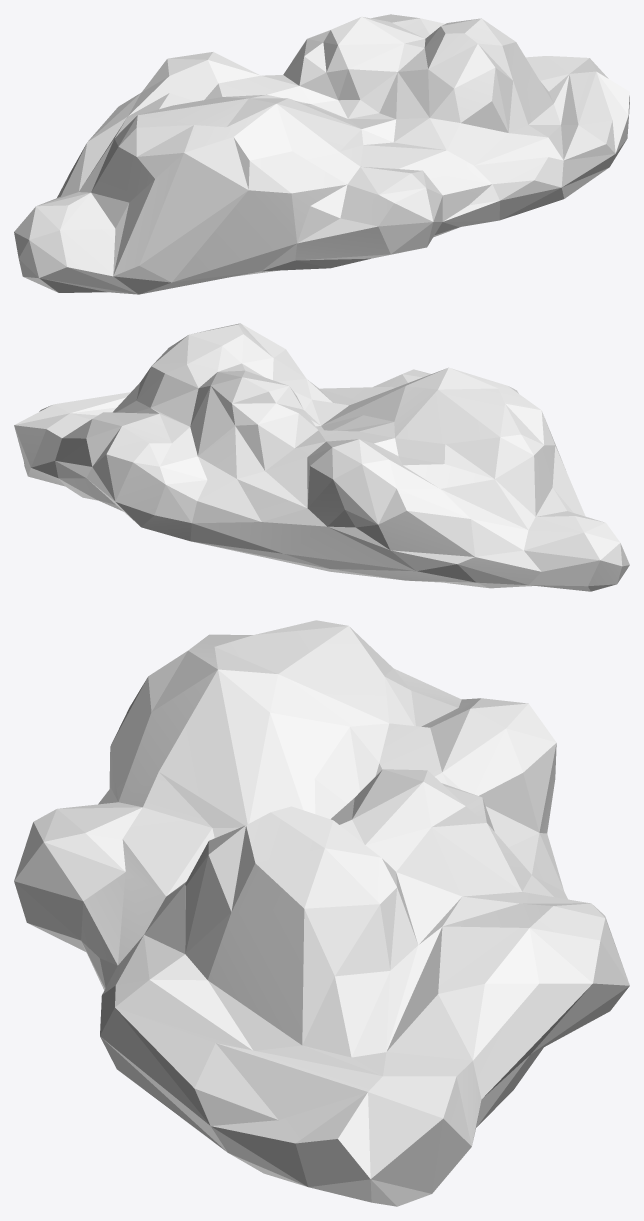
File: cloud_3.glb
3 renders of one model, top to bottom at view 1: azimuth 30°, elevation 25°; view 2: azimuth 150°, elevation 25°; view 3: azimuth 270°, elevation 25°, orthographic. The views are drawn at different scales.
Visible parts, largest first — view 1: SM_Generic_Cloud_03; view 2: SM_Generic_Cloud_03; view 3: SM_Generic_Cloud_03.
Boxes of the visible parts, x1,y1,x2,y2 form: SM_Generic_Cloud_03: [14, 14, 629, 294]; SM_Generic_Cloud_03: [14, 323, 629, 591]; SM_Generic_Cloud_03: [14, 620, 629, 1206].
Bounding box in the file's own units: 7.03 × 1.98 × 3.89.
1 material, 1 textured.
